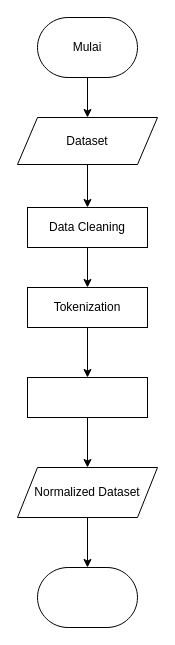
This 175x645 diagram has some shape labels left out. The centre of each missing label's shape, as x and y in pixels:
Padding and truncation: the point at 87,397
Selesai: the point at 87,597
